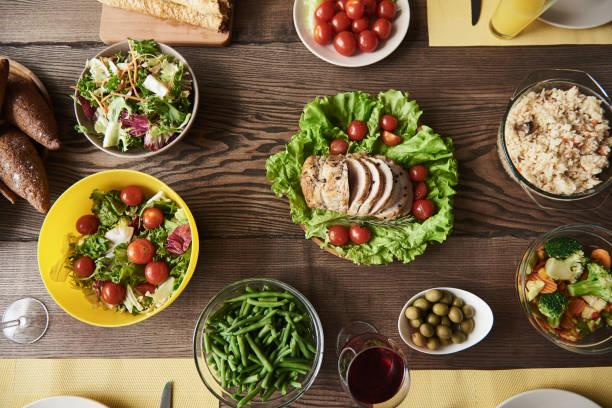Braised Crucian Carp: (288, 91, 459, 265), (36, 168, 195, 325), (192, 277, 320, 404), (72, 38, 196, 158), (498, 72, 608, 207), (516, 223, 610, 350), (292, 0, 411, 67)
